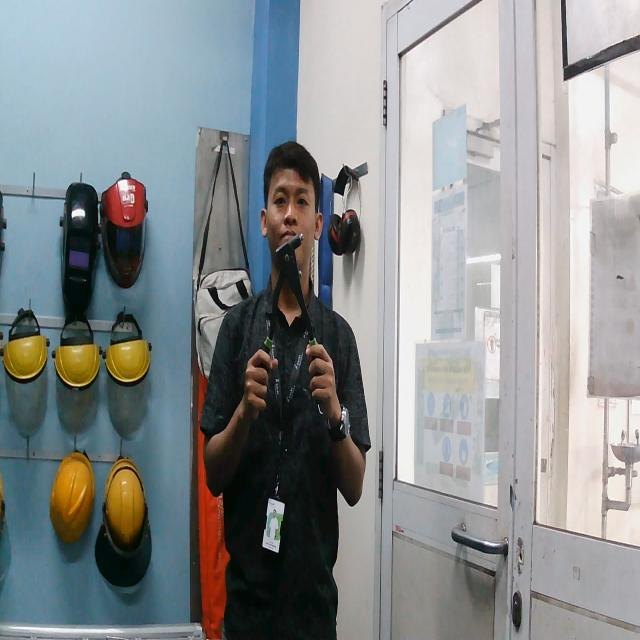tang_rivet: (251, 230, 326, 397)
